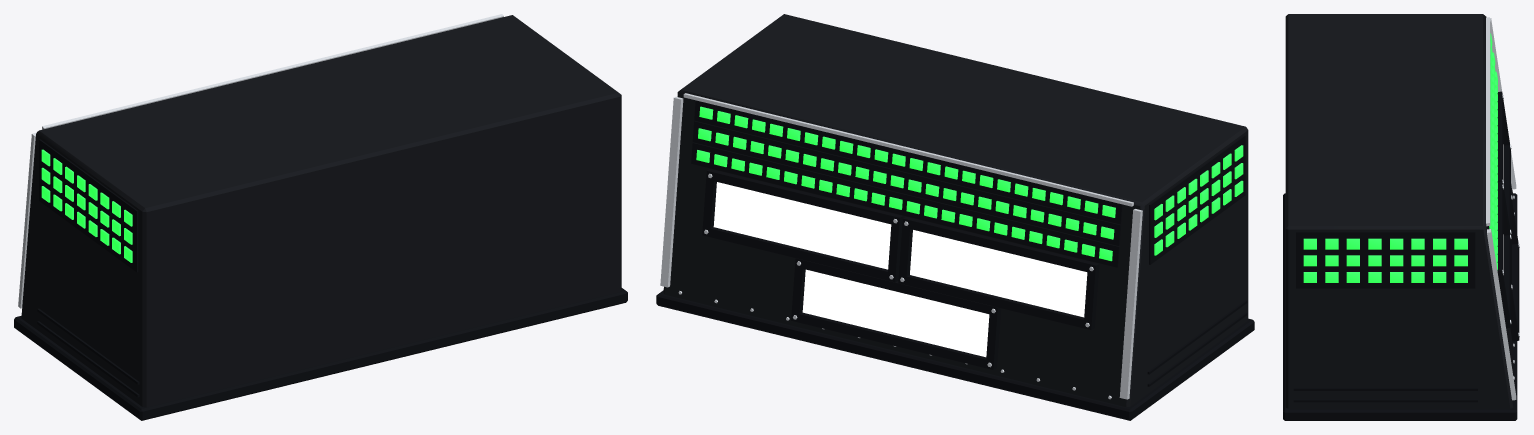
The model's file is deck_triple_sign.glb.
The picture shows the model from 3 angles, left to right: view 1: azimuth 30°, elevation 25°; view 2: azimuth 150°, elevation 25°; view 3: azimuth 270°, elevation 25°; orthographic projection. The views are drawn at different scales.
Visible parts, largest first — view 1: deck_triple_sign_deco_body, deck_triple_sign_deco_trim, deck_triple_sign_deco_led, deck_triple_sign_chrome; view 2: deck_triple_sign_deco_body, deck_triple_sign_deco_trim, deck_triple_sign_acrylic_sign, deck_triple_sign_deco_led, deck_triple_sign_chrome; view 3: deck_triple_sign_deco_body, deck_triple_sign_deco_trim, deck_triple_sign_deco_led, deck_triple_sign_chrome.
Boxes of the visible parts, x1,y1,x2,y2 form: deck_triple_sign_deco_body: (21, 15, 621, 407); deck_triple_sign_deco_trim: (14, 139, 627, 420); deck_triple_sign_deco_led: (41, 149, 132, 262); deck_triple_sign_chrome: (18, 14, 503, 308); deck_triple_sign_deco_body: (663, 14, 1248, 407); deck_triple_sign_deco_trim: (656, 100, 1254, 420); deck_triple_sign_acrylic_sign: (713, 182, 1087, 357); deck_triple_sign_deco_led: (696, 106, 1243, 261); deck_triple_sign_chrome: (660, 93, 1142, 399); deck_triple_sign_deco_body: (1285, 14, 1513, 408); deck_triple_sign_deco_trim: (1283, 91, 1519, 420); deck_triple_sign_deco_led: (1303, 33, 1497, 282); deck_triple_sign_chrome: (1486, 17, 1519, 400).
Bounding box in the file's own units: 2.14 × 0.88 × 0.9805.
